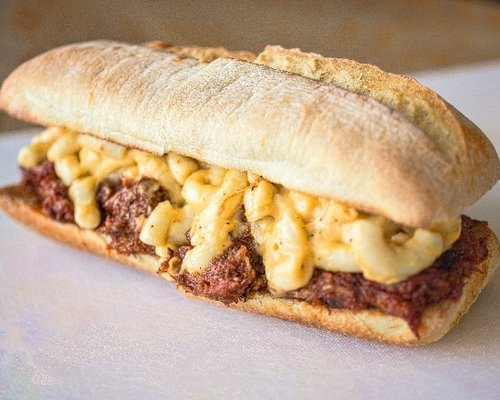soup: (3, 38, 500, 349)
